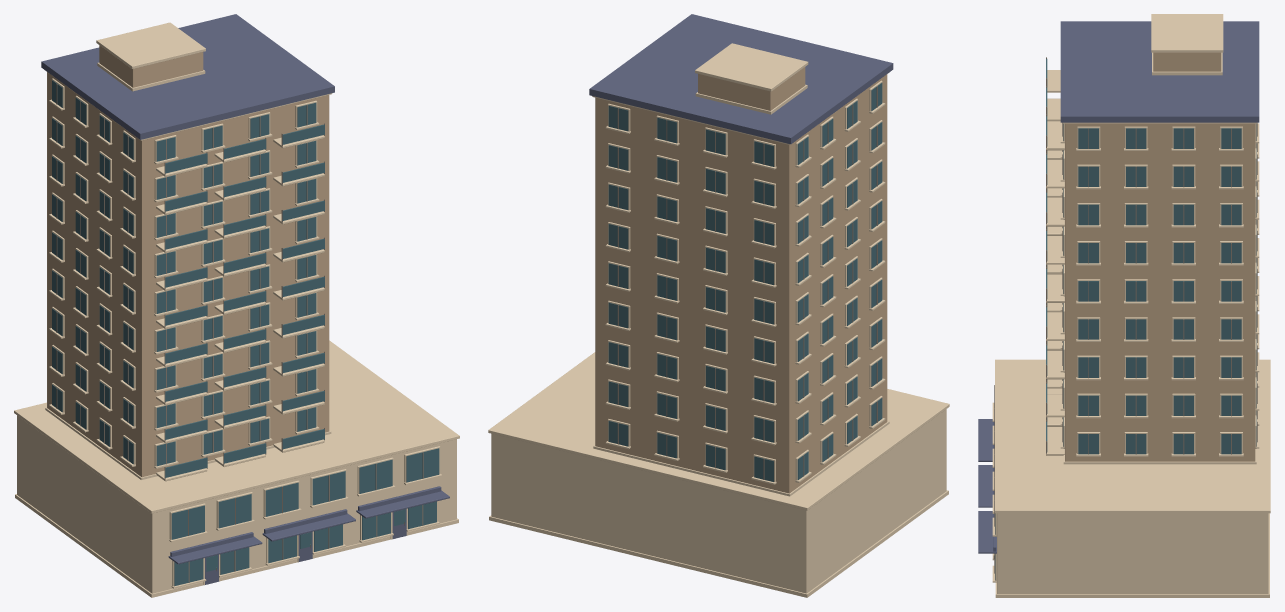
The model's file is mixed-use-tower.glb.
The picture shows the model from 3 angles, left to right: view 1: azimuth 30°, elevation 25°; view 2: azimuth 150°, elevation 25°; view 3: azimuth 270°, elevation 25°; orthographic projection. The views are drawn at different scales.
Visible parts, largest first — view 1: mixed-use-tower; view 2: mixed-use-tower; view 3: mixed-use-tower.
Boxes of the visible parts, x1=… form: mixed-use-tower: x1=14, y1=14, x2=459, y2=597; mixed-use-tower: x1=488, y1=14, x2=949, y2=597; mixed-use-tower: x1=978, y1=14, x2=1270, y2=597.
Bounding box in the file's own units: 26.3 × 37.51 × 21.53.
